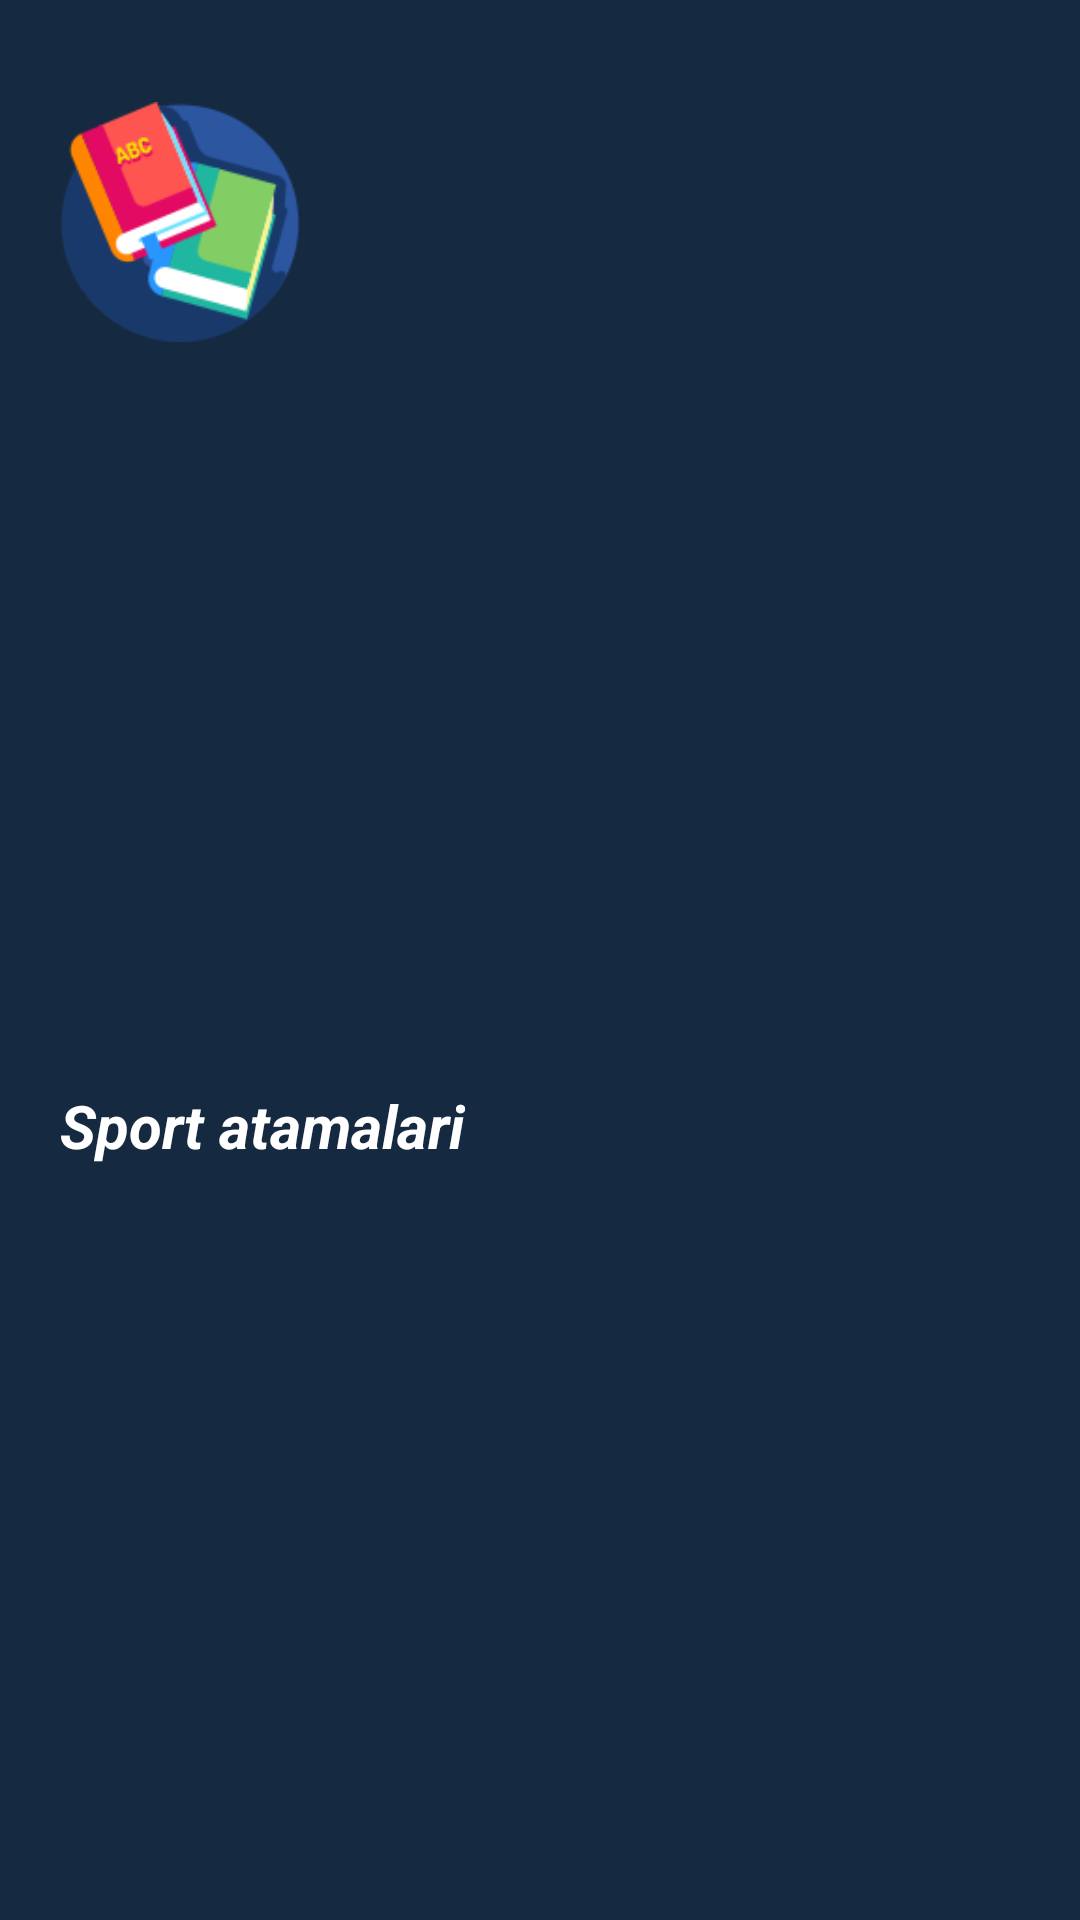

Icon bounding boxes for this 1080 x 1920 phone screenshot, format (x1, y1, x2, y2):
books: (62, 102, 299, 342)
